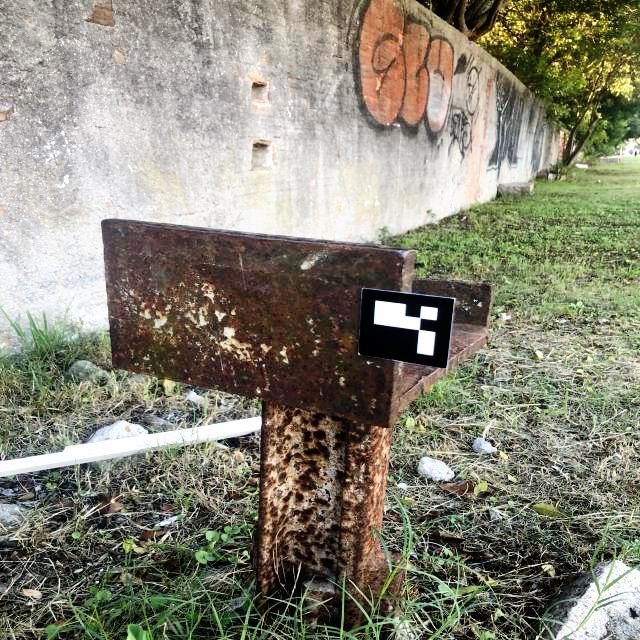Corrosion: (101, 218, 496, 640)
